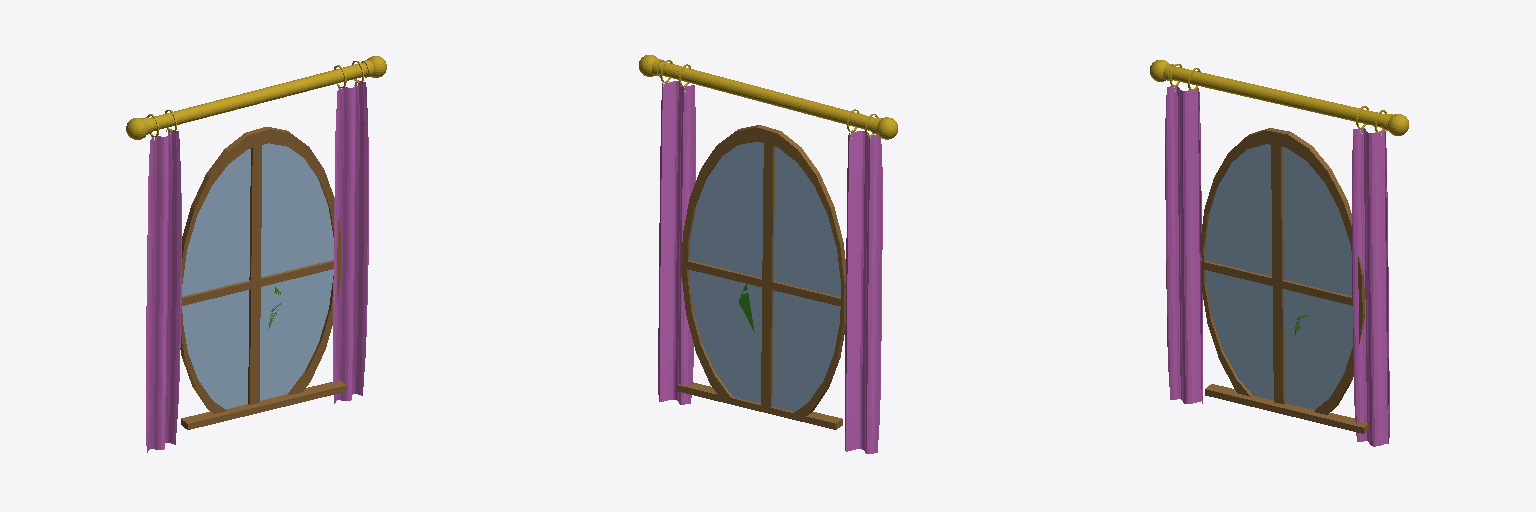
3 views of the same model, side by side, from view 1: azimuth 30°, elevation 25°; view 2: azimuth 150°, elevation 25°; view 3: azimuth 330°, elevation 25° (orthographic).
Parts seen in each view (by area): view 1: Mesh14Group1Model, Mesh9Group7Group6Group2Group1Model, Mesh4Group5Group4Group2Group1Model, Mesh1Group3Group2Group1Model; view 2: Mesh14Group1Model, Mesh9Group7Group6Group2Group1Model, Mesh4Group5Group4Group2Group1Model, Mesh1Group3Group2Group1Model; view 3: Mesh14Group1Model, Mesh9Group7Group6Group2Group1Model, Mesh4Group5Group4Group2Group1Model, Mesh1Group3Group2Group1Model.
Part boxes in pixels (x1,y1,x2,y2): Mesh14Group1Model: (180,127,346,429); Mesh9Group7Group6Group2Group1Model: (146,129,181,452); Mesh4Group5Group4Group2Group1Model: (333,80,368,403); Mesh1Group3Group2Group1Model: (141,60,373,134); Mesh14Group1Model: (677,125,845,429); Mesh9Group7Group6Group2Group1Model: (845,131,882,453); Mesh4Group5Group4Group2Group1Model: (658,81,695,404); Mesh1Group3Group2Group1Model: (652,58,881,134); Mesh14Group1Model: (1201,128,1368,433); Mesh9Group7Group6Group2Group1Model: (1165,86,1202,403); Mesh4Group5Group4Group2Group1Model: (1352,128,1389,446); Mesh1Group3Group2Group1Model: (1163,63,1392,130).
Bounding box in the file's own units: 1.69 × 2.14 × 0.1474.
Materials: 6 (5 with a texture image).